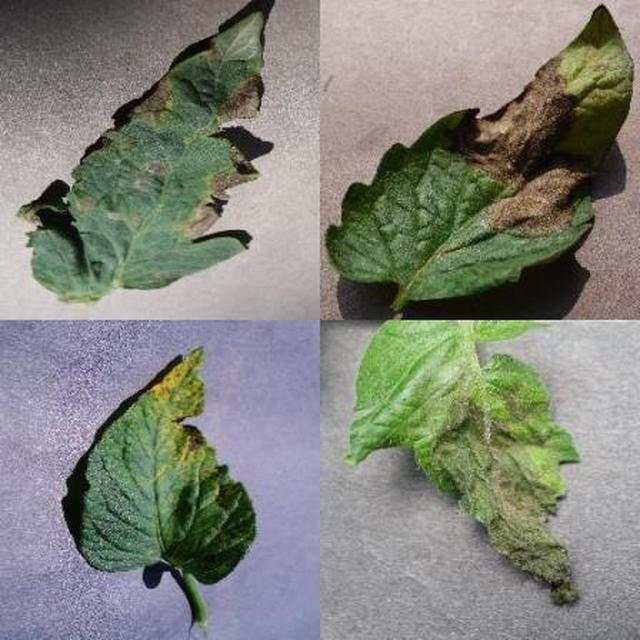Early Blight Leaf: (204, 216, 640, 640)
